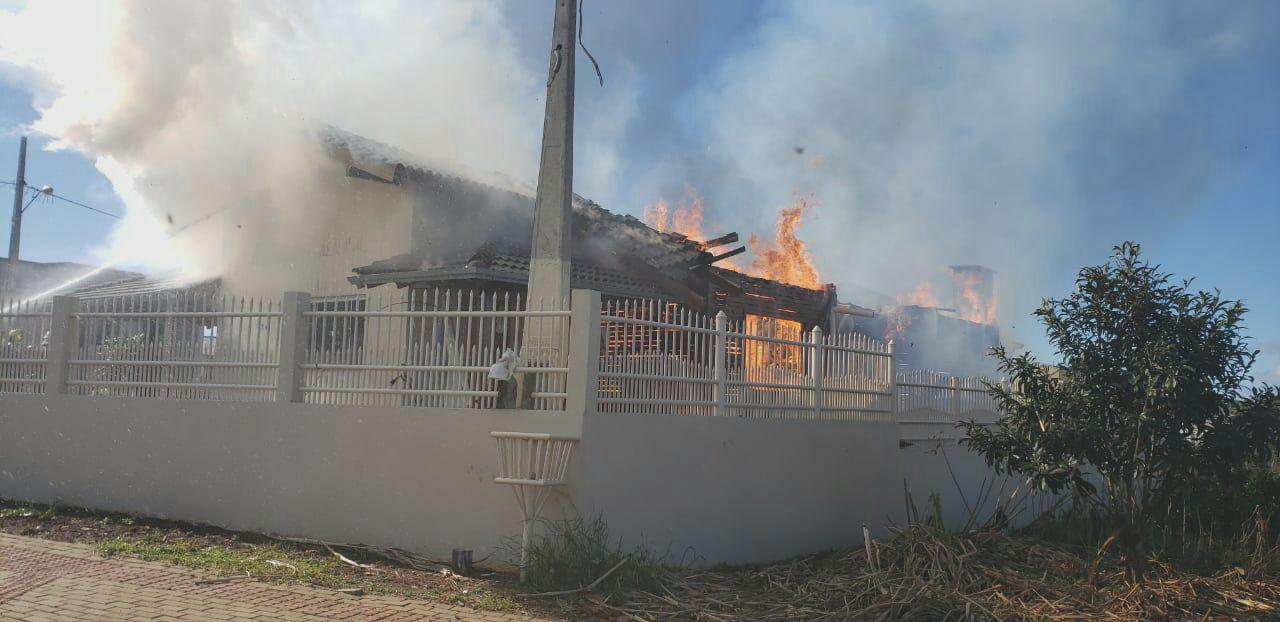fire: (639, 200, 820, 370), (899, 256, 1002, 328)
